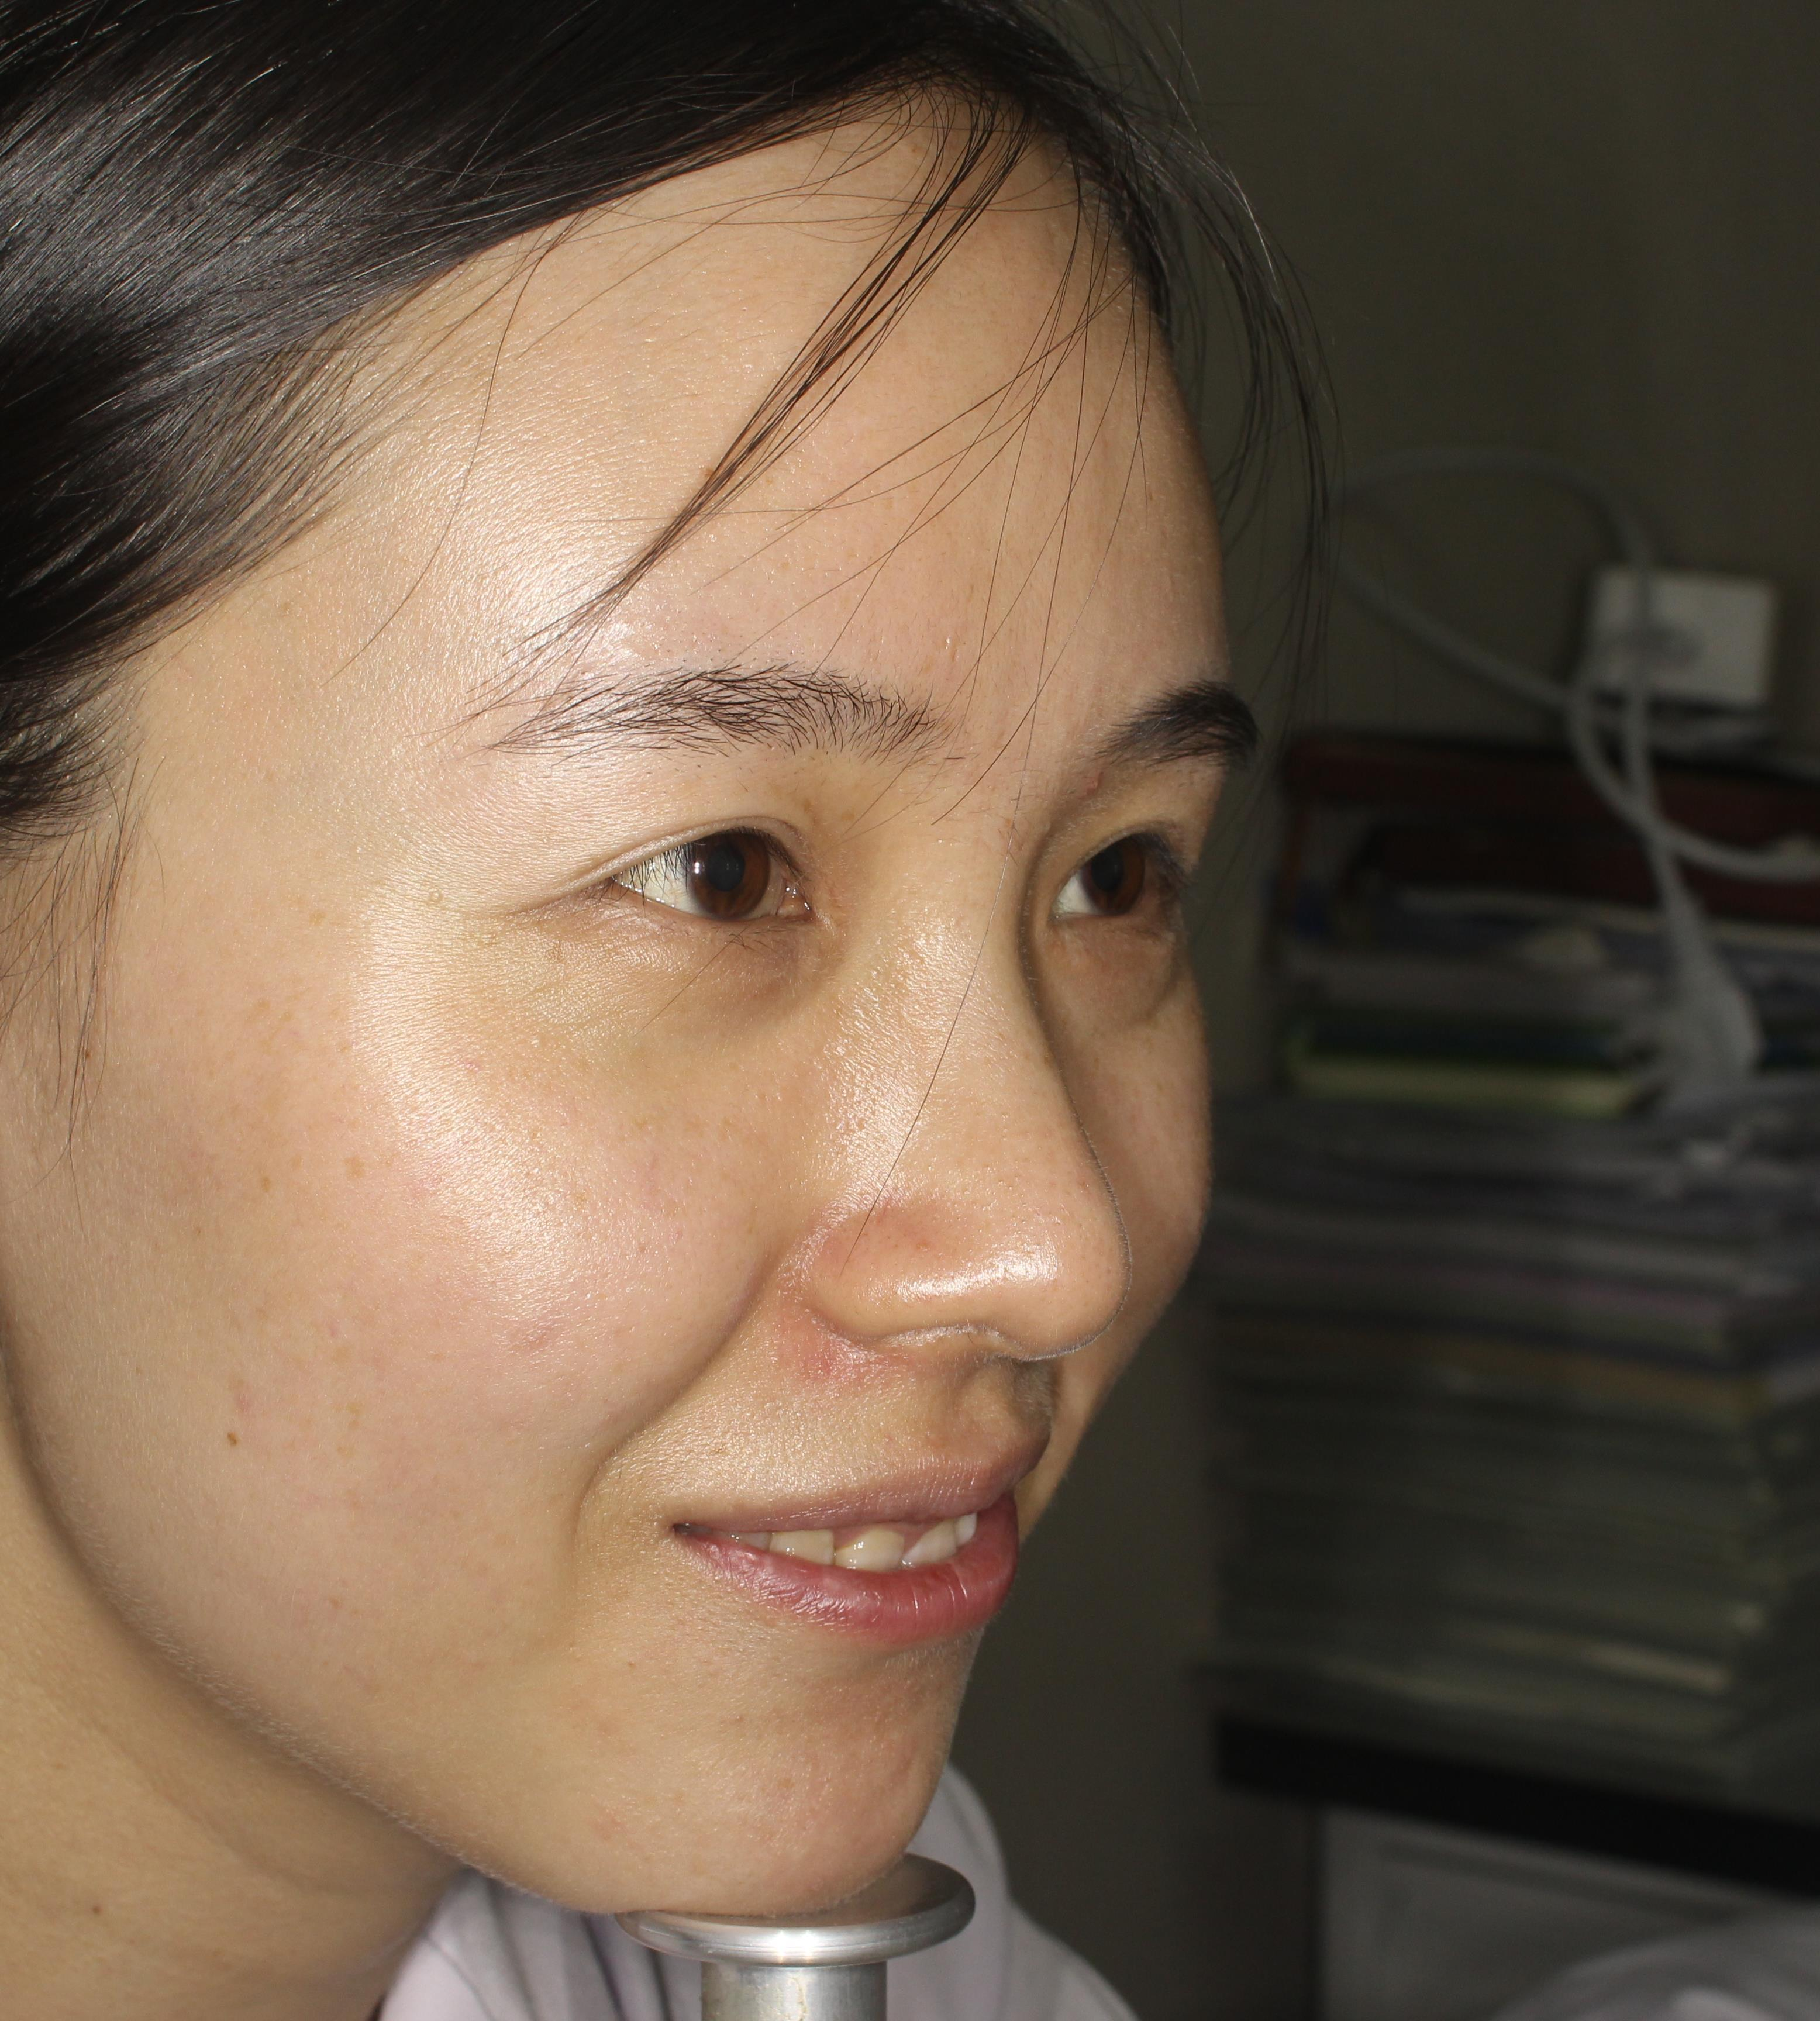fore: (791, 1303, 852, 1396)
